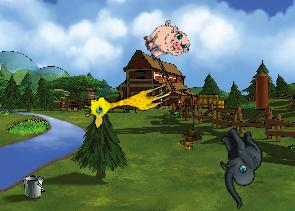elephant: (196, 120, 282, 209)
giraffe: (80, 70, 175, 131)
pig: (139, 16, 193, 68)
